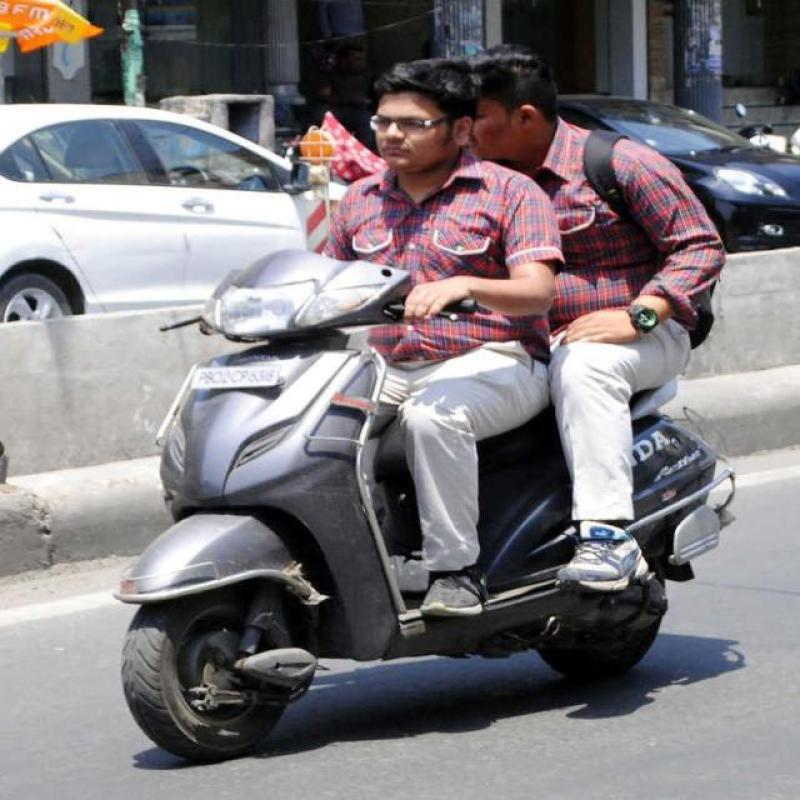nohelmet: (470, 44, 596, 178), (338, 67, 460, 191)
